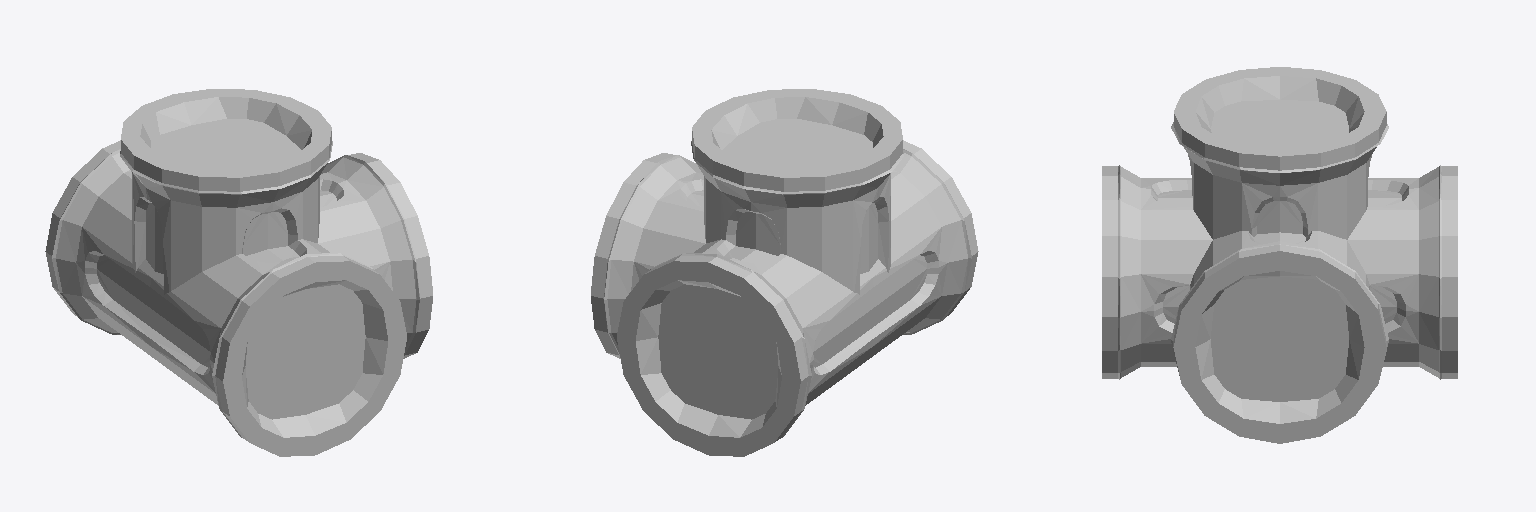
Rendered from Pipe_4way_potrude.obj.
The picture shows the model from 3 angles: view 1: azimuth 30°, elevation 25°; view 2: azimuth 150°, elevation 25°; view 3: azimuth 270°, elevation 25°; orthographic projection.
Visible parts, largest first — view 1: Cylinder.002; view 2: Cylinder.002; view 3: Cylinder.002.
Part boxes in pixels (left/top/right/bottom): Cylinder.002: left=45, top=89, right=432, bottom=456; Cylinder.002: left=591, top=89, right=978, bottom=456; Cylinder.002: left=1102, top=67, right=1457, bottom=443.
Bounding box in the file's own units: 0.8078 × 0.8075 × 1.